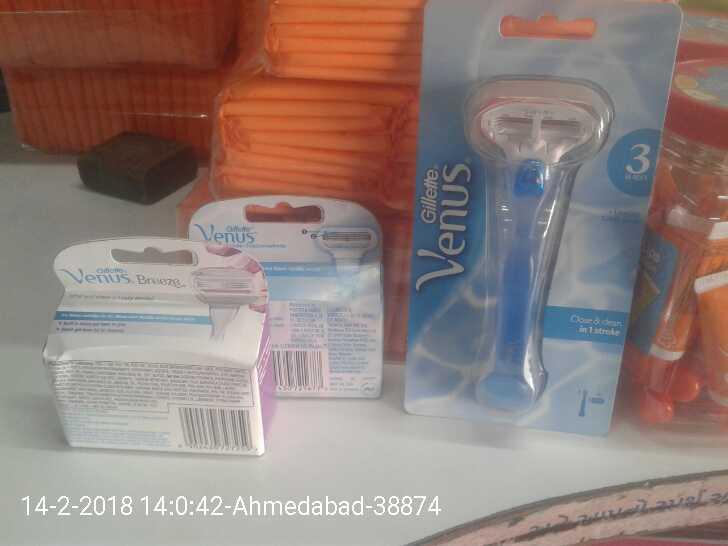venus: (423, 4, 628, 427)
